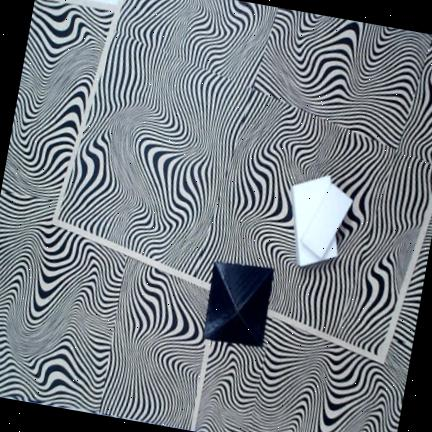Paralelepipedo: (290, 175, 338, 267), (301, 184, 353, 258)
Piramide: (203, 262, 274, 347)
